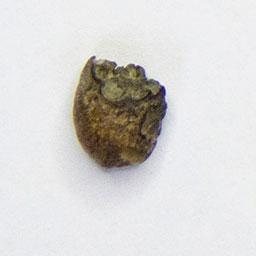defect: (68, 51, 171, 172)
